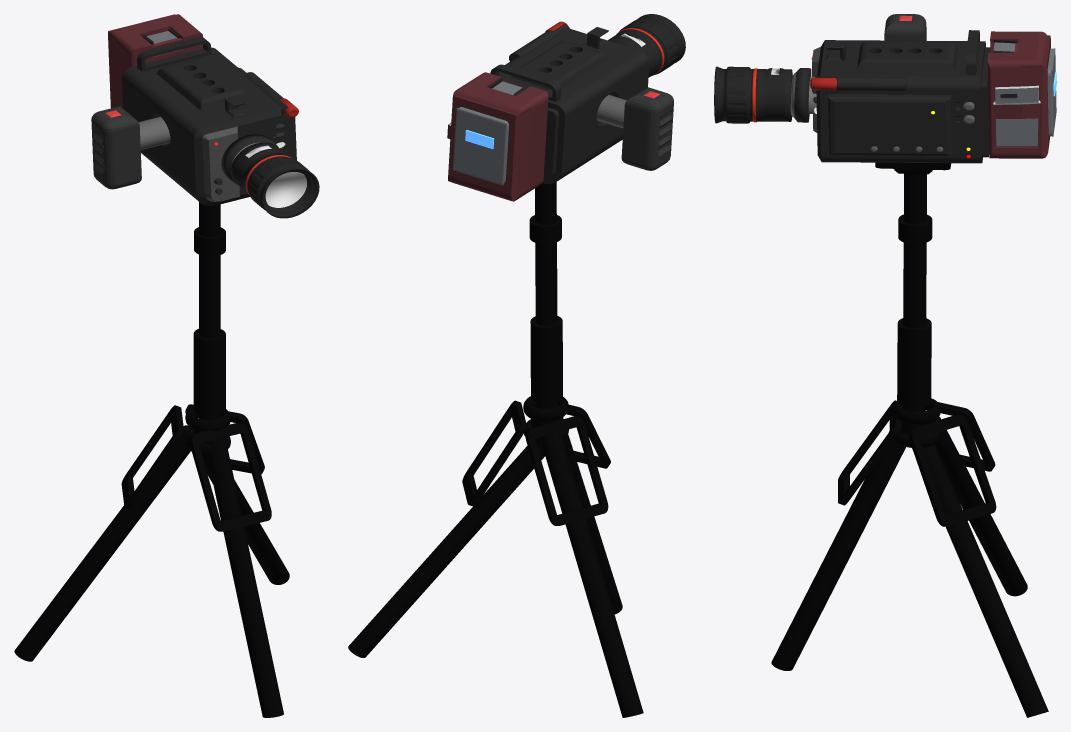
Rendered from video_tripod.glb.
3 renders of one model, left to right at view 1: azimuth 30°, elevation 25°; view 2: azimuth 150°, elevation 25°; view 3: azimuth 270°, elevation 25°, orthographic. The views are drawn at different scales.
Visible parts, largest first — view 1: Cube.007, Cylinder.012, Cylinder.011, Cube.006, Cube.004, Cylinder.039_Material.015_0, Cube.009, Cylinder.009, Cylinder.017, Cube.003, Cylinder.010, lens.001 (+6 smaller); view 2: Cube.007, Cube.006, Cylinder.011, Cylinder.010, Cube.004, Cube.003, Cylinder.017, Cylinder.009, Cylinder.039_Material.015_0, Cube.008, Cylinder.012, Cube.009 (+3 smaller); view 3: Cube.007, Cube.006, Cylinder.010, Cylinder.012, Cylinder.039_Material.015_0, Cylinder.011, Cylinder.017, Cube.008, Cylinder.009, Cube.009, Cylinder.040, Cylinder.038 (+5 smaller).
Boxes of the visible parts, x1,y1,x2,y2 form: Cube.007: (122, 37, 296, 205); Cylinder.012: (207, 437, 283, 717); Cylinder.011: (14, 425, 193, 661); Cube.006: (108, 14, 203, 108); Cube.004: (91, 106, 141, 189); Cylinder.039_Material.015_0: (230, 142, 319, 218); Cube.009: (189, 422, 271, 531); Cylinder.009: (193, 329, 225, 416); Cylinder.017: (199, 202, 220, 419); Cube.003: (121, 405, 183, 508); Cylinder.010: (202, 455, 289, 584); lens.001: (265, 172, 306, 207); Cube.007: (490, 28, 649, 183); Cube.006: (447, 72, 548, 201); Cylinder.011: (540, 431, 643, 717); Cylinder.010: (348, 443, 544, 657); Cube.004: (621, 87, 673, 170); Cube.003: (525, 416, 608, 525); Cylinder.017: (535, 182, 557, 408); Cylinder.009: (530, 316, 562, 403); Cylinder.039_Material.015_0: (608, 14, 685, 77); Cube.008: (462, 400, 526, 506); Cylinder.012: (563, 434, 622, 614); Cube.009: (566, 404, 610, 468); Cube.007: (812, 30, 990, 163); Cube.006: (987, 31, 1056, 158); Cylinder.010: (912, 444, 1048, 717); Cylinder.012: (771, 429, 905, 670); Cylinder.039_Material.015_0: (714, 66, 792, 123); Cylinder.011: (932, 416, 1027, 596); Cylinder.017: (902, 174, 926, 411); Cube.008: (908, 414, 996, 526); Cylinder.009: (897, 318, 931, 407); Cube.009: (838, 400, 901, 505); Cylinder.040: (790, 68, 816, 122); Cylinder.038: (815, 76, 906, 91).
Bounding box in the file's own units: 1.69 × 3.48 × 1.73.
